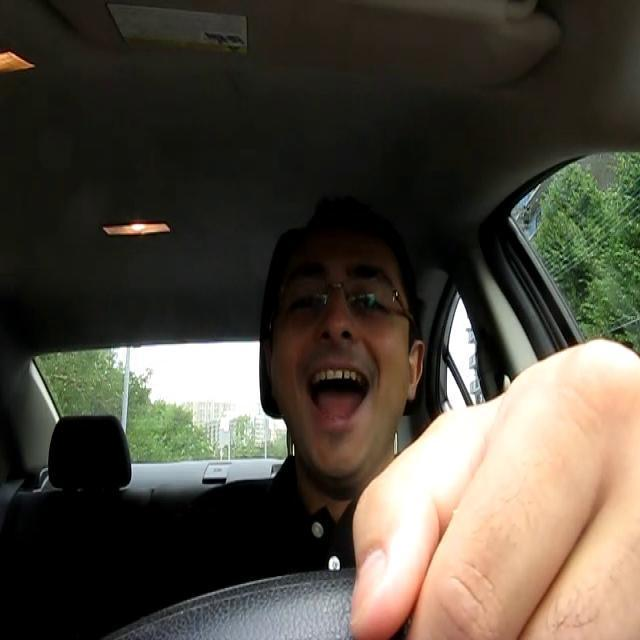open-mouth: (304, 364, 374, 432)
